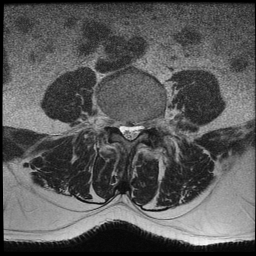CCS_normal: (126, 114, 133, 147)
LFS_normal: (143, 112, 152, 136)
LLS_normal: (133, 114, 143, 143)
RFS_normal: (110, 108, 119, 136)
RLS_normal: (119, 114, 126, 143)
